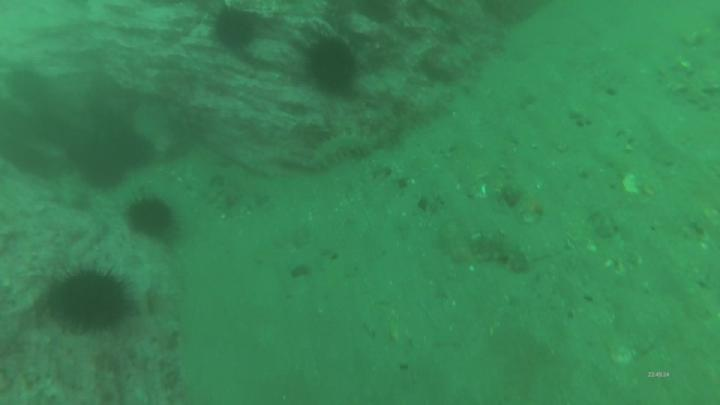echinus: (45, 266, 137, 336), (302, 35, 363, 100), (210, 8, 263, 56), (121, 197, 178, 240), (79, 144, 126, 191), (6, 64, 51, 110), (112, 131, 157, 176)
holothurian: (305, 129, 378, 177), (468, 229, 536, 275), (431, 31, 495, 77), (396, 81, 455, 129)
